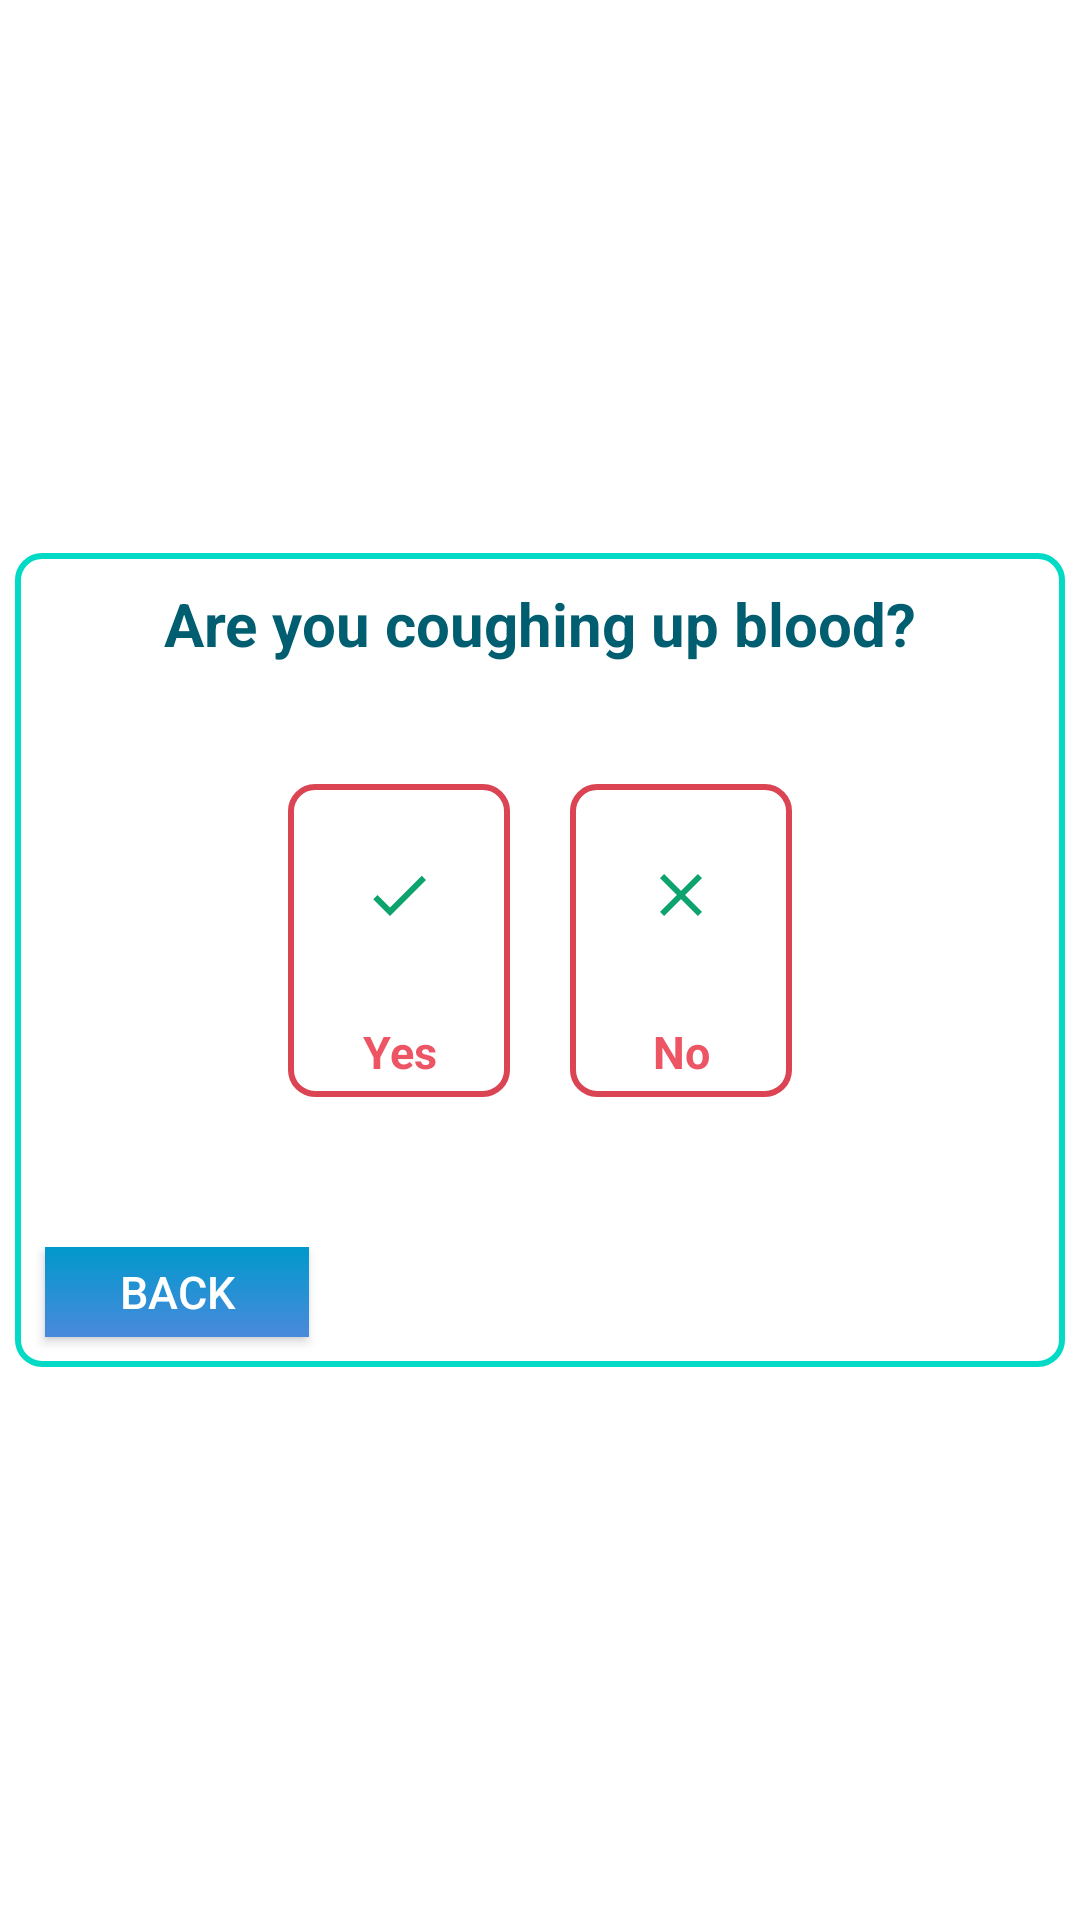

Icon click points for this 1080*1920 phone screenshot, format (x=x, y=y):
close: (x=681, y=895)
